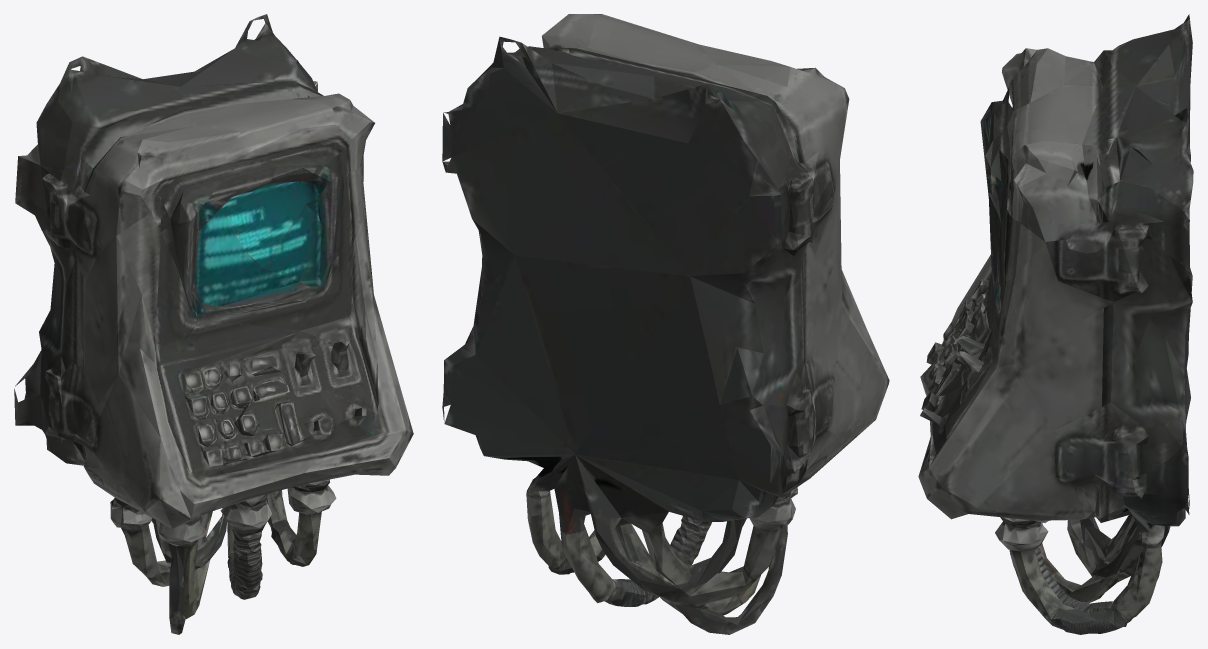
File: terminal.glb
3 views of the same model, side by side, from view 1: azimuth 30°, elevation 25°; view 2: azimuth 150°, elevation 25°; view 3: azimuth 270°, elevation 25° (orthographic). The views are drawn at different scales.
Visible parts, largest first — view 1: output_unwrapped; view 2: output_unwrapped; view 3: output_unwrapped.
Part boxes in pixels (box(x1,y1,x2,y2)): output_unwrapped: box(14, 14, 413, 634); output_unwrapped: box(442, 14, 889, 634); output_unwrapped: box(918, 14, 1193, 634).
Bounding box in the file's own units: 0.4714 × 0.8 × 0.3518.
Materials: 1 (1 with a texture image).
